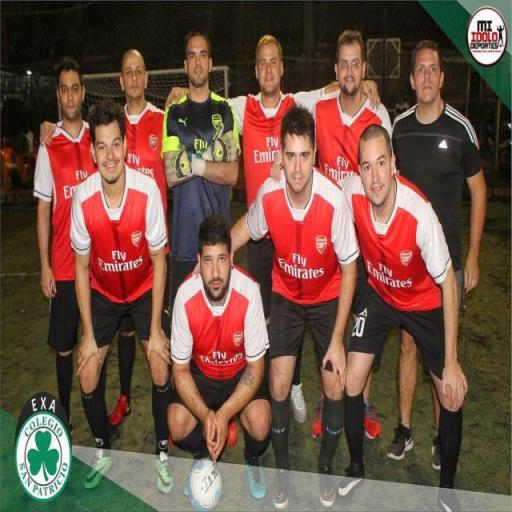Emirates: (366, 255, 414, 290), (277, 251, 323, 280), (96, 248, 146, 274), (252, 134, 282, 166), (324, 154, 360, 180)
